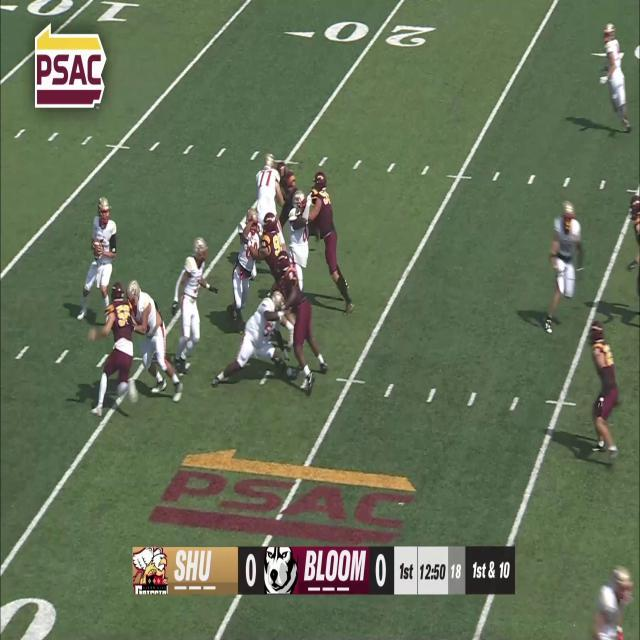football: (91, 238, 101, 262)
